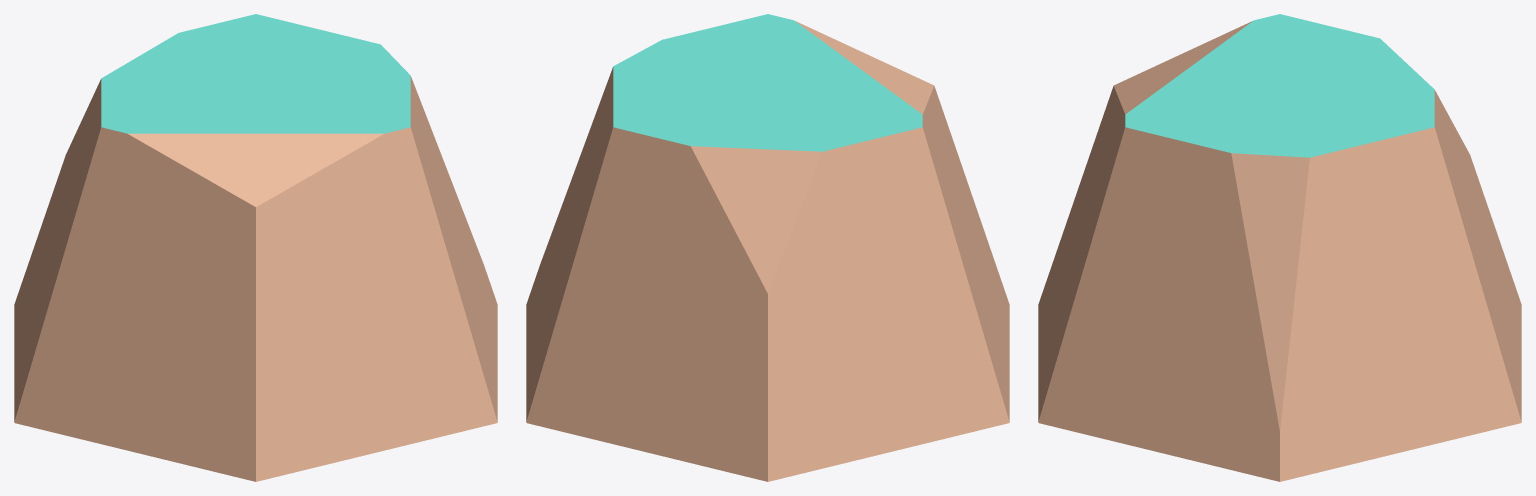
The model's file is rock_smallD.glb.
The picture shows the model from 3 angles, left to right: view 1: azimuth 30°, elevation 25°; view 2: azimuth 150°, elevation 25°; view 3: azimuth 270°, elevation 25°; orthographic projection.
Visible parts, largest first — view 1: rock_smallD; view 2: rock_smallD; view 3: rock_smallD.
Part boxes in pixels (x1,y1,x2,y2): rock_smallD: (14,14,497,481); rock_smallD: (526,14,1009,481); rock_smallD: (1038,14,1521,481).
Bounding box in the file's own units: 0.4257 × 0.2309 × 0.3687.
Materials: 1 (1 with a texture image).
